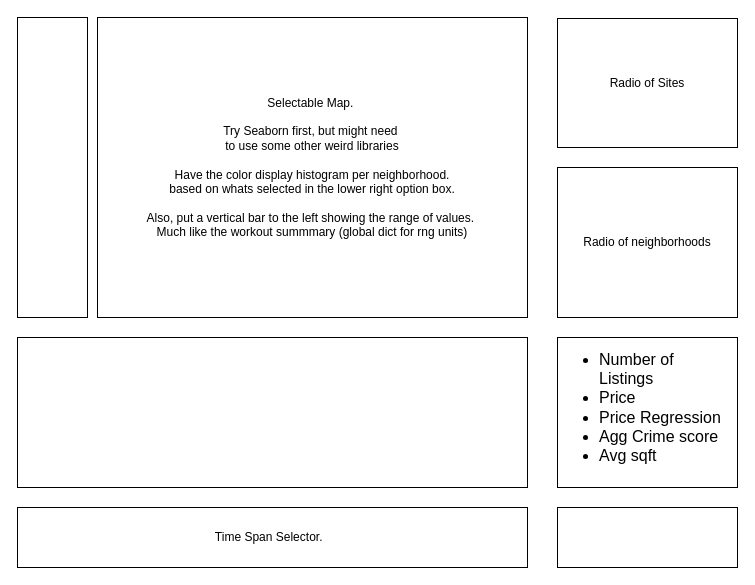
This 755x585 diagram has some shape labels left out. The shapes that lost their labels are listed below. From the top down, each one's centre as x and y in pixels, then its label:
the point at 272,412: Trend over selected time below time
the point at 647,537: Cycle Time Window Days, weeks, months
